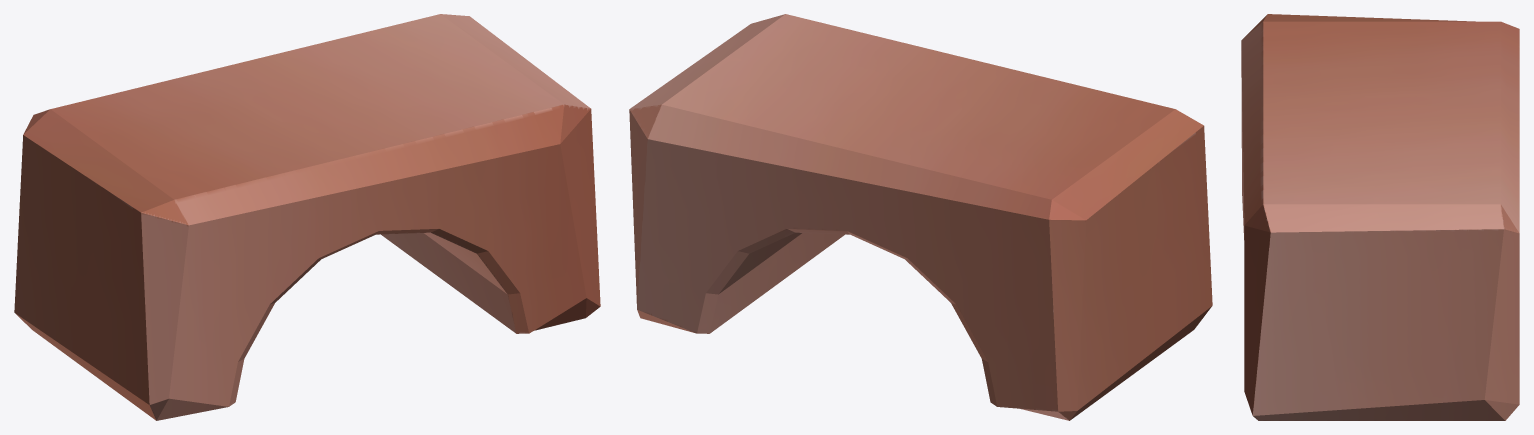
Rendered from RedArch.fbx.
The picture shows the model from 3 angles, left to right: view 1: azimuth 30°, elevation 25°; view 2: azimuth 150°, elevation 25°; view 3: azimuth 270°, elevation 25°; orthographic projection. The views are drawn at different scales.
Visible parts, largest first — view 1: Cube.001; view 2: Cube.001; view 3: Cube.001.
Part boxes in pixels (box(x1,y1,x2,y2)): Cube.001: box(14, 14, 600, 420); Cube.001: box(629, 14, 1212, 420); Cube.001: box(1241, 14, 1519, 420).
Bounding box in the file's own units: 103 × 47.04 × 57.11.
